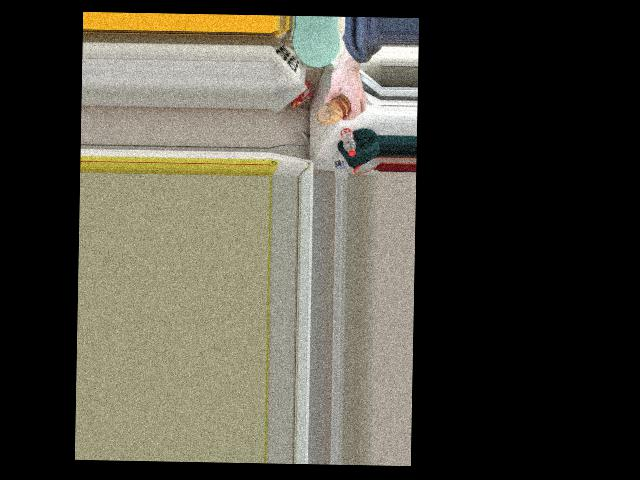sweet_potato: (317, 94, 348, 126)
